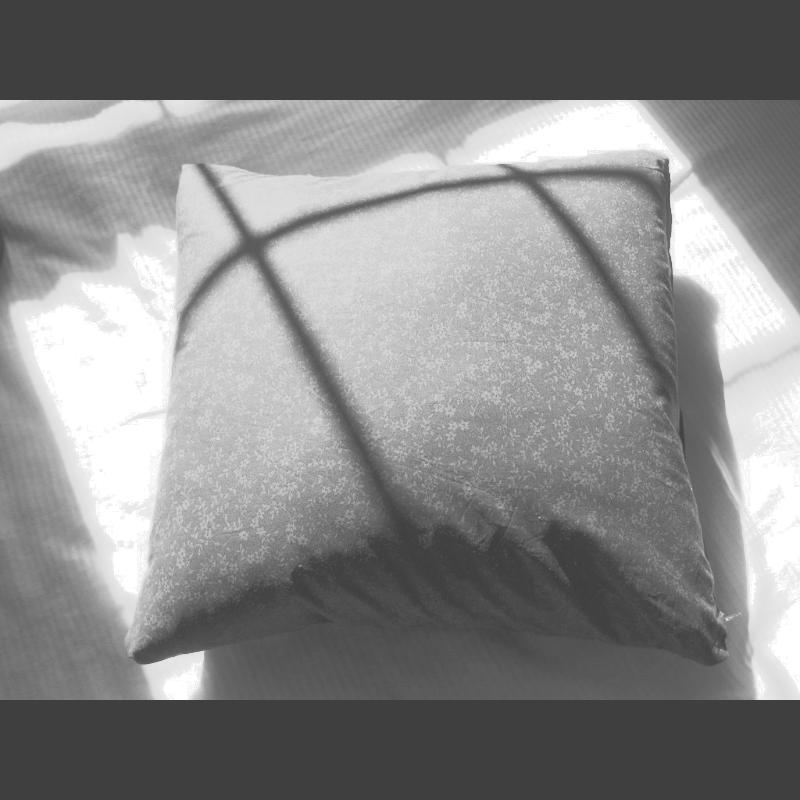pillow: (172, 127, 686, 683)
